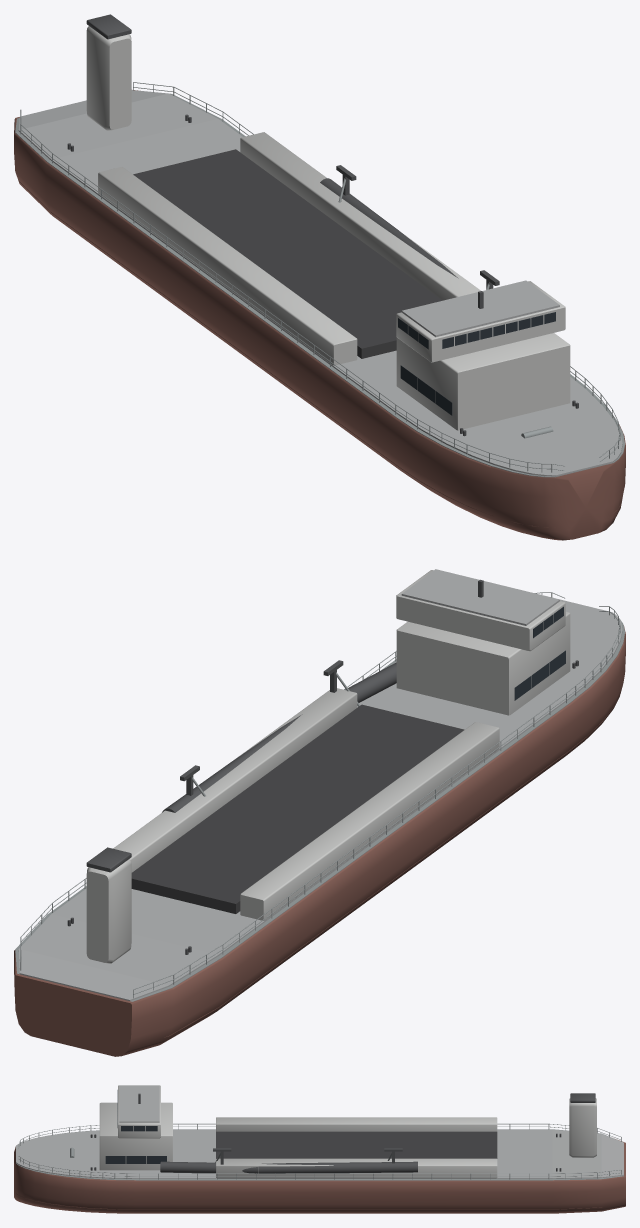
The model's file is vessel-dredger.glb.
The picture shows the model from 3 angles, top to bottom: view 1: azimuth 30°, elevation 25°; view 2: azimuth 150°, elevation 25°; view 3: azimuth 270°, elevation 25°; orthographic projection. The views are drawn at different scales.
Visible parts, largest first — view 1: vessel-dredger; view 2: vessel-dredger; view 3: vessel-dredger.
Part boxes in pixels (x1,y1,x2,y2): vessel-dredger: (14,14,625,540); vessel-dredger: (14,569,625,1056); vessel-dredger: (14,1085,625,1213).
Size of the model in its own units: 20 by 18 by 100.
